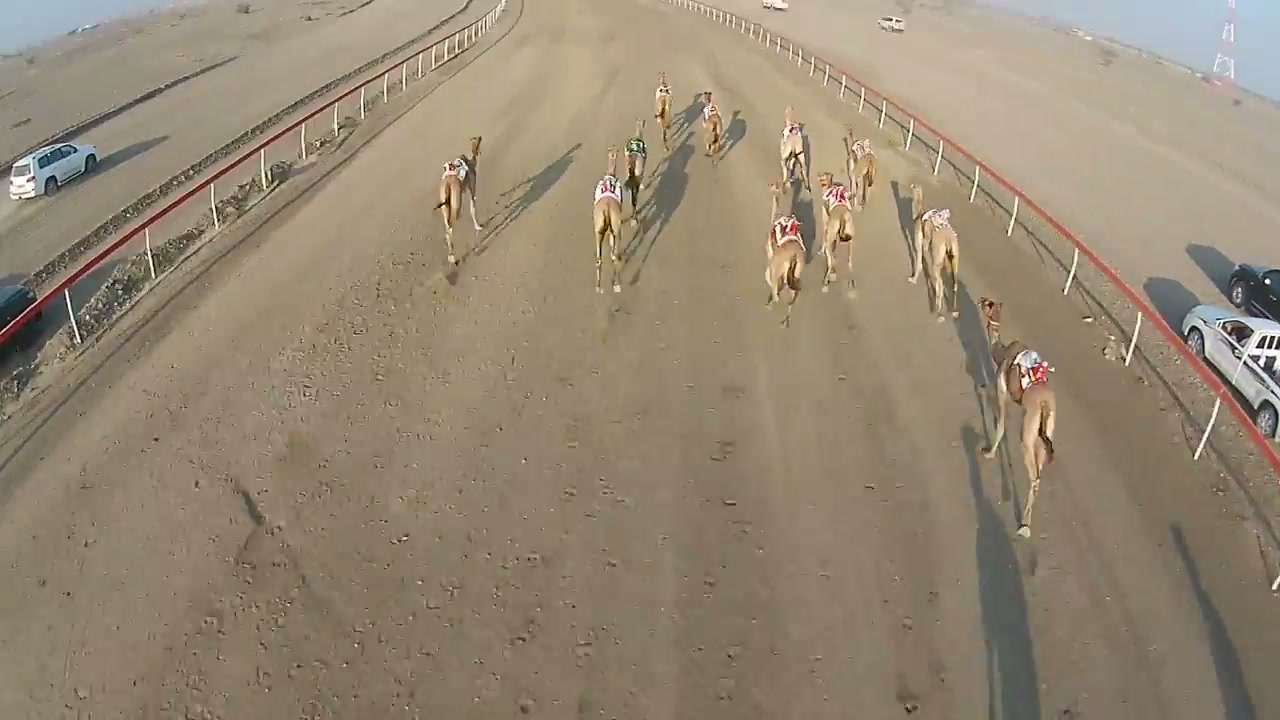animal_foot_print: (215, 449, 953, 713)
